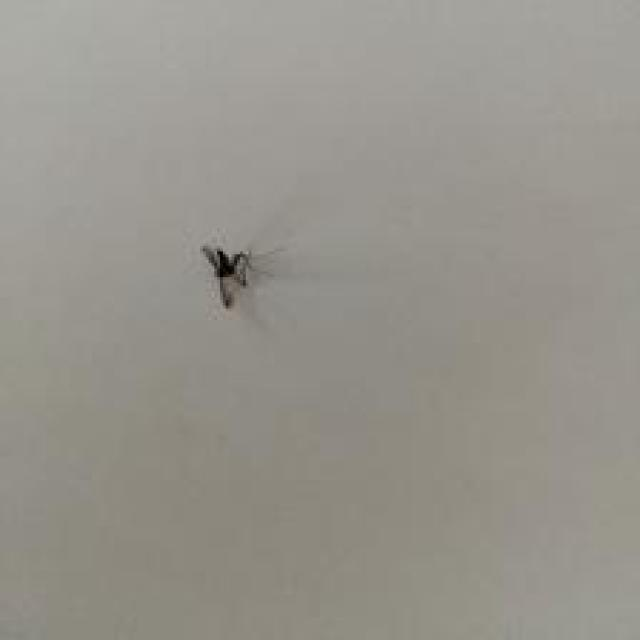Aedes albopictus: (198, 241, 278, 310)
